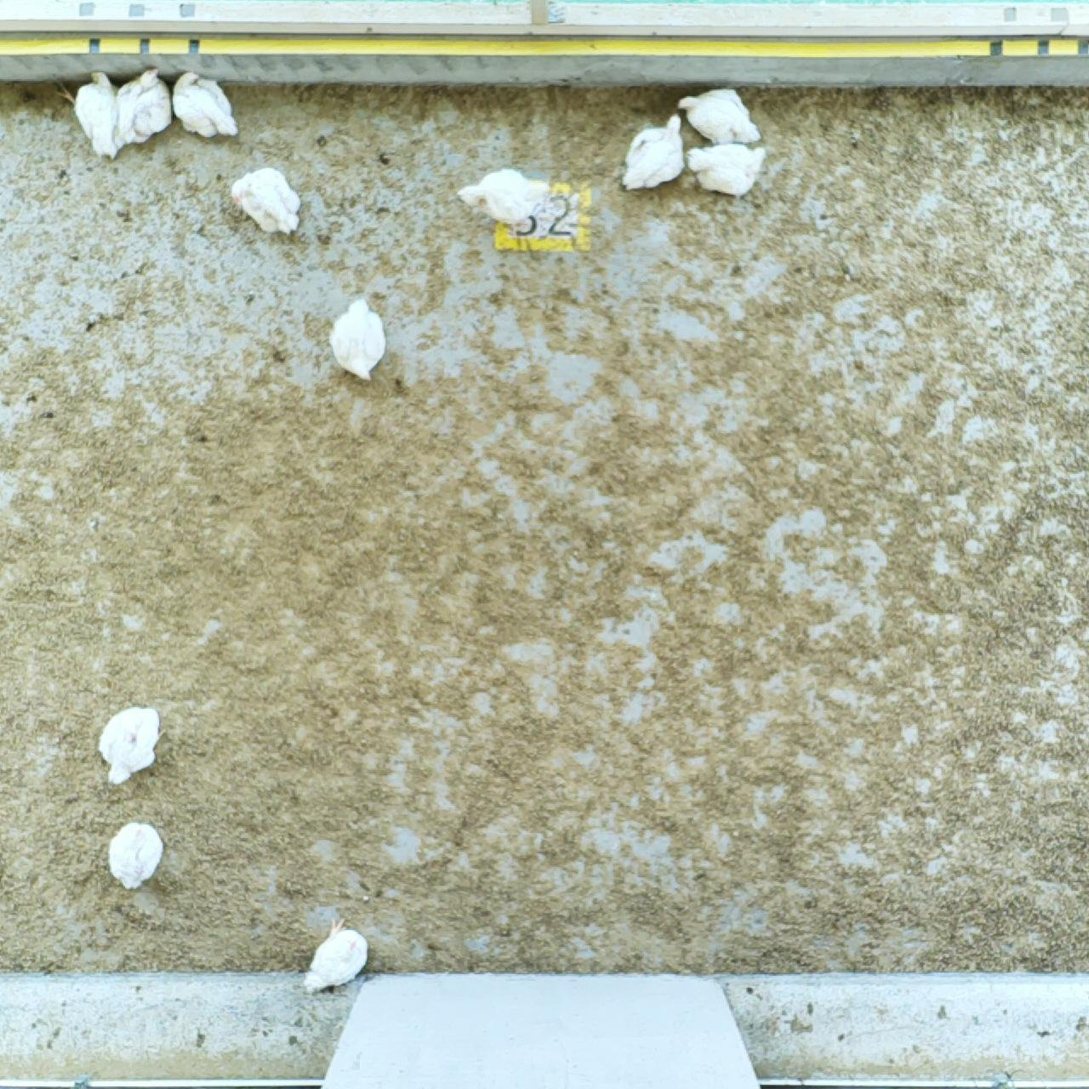chicken: (99, 695, 164, 792), (617, 107, 690, 192), (458, 159, 555, 221), (70, 64, 132, 160), (304, 910, 371, 995), (329, 293, 391, 383), (168, 65, 240, 141), (679, 84, 763, 149), (108, 65, 172, 148), (230, 166, 301, 240), (688, 136, 771, 198), (107, 820, 164, 893)
